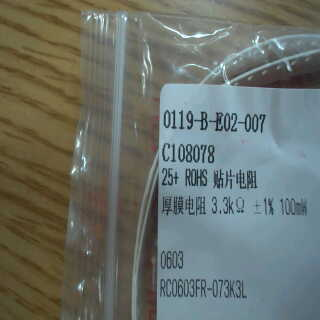3.3kO: (207, 190, 250, 218)
